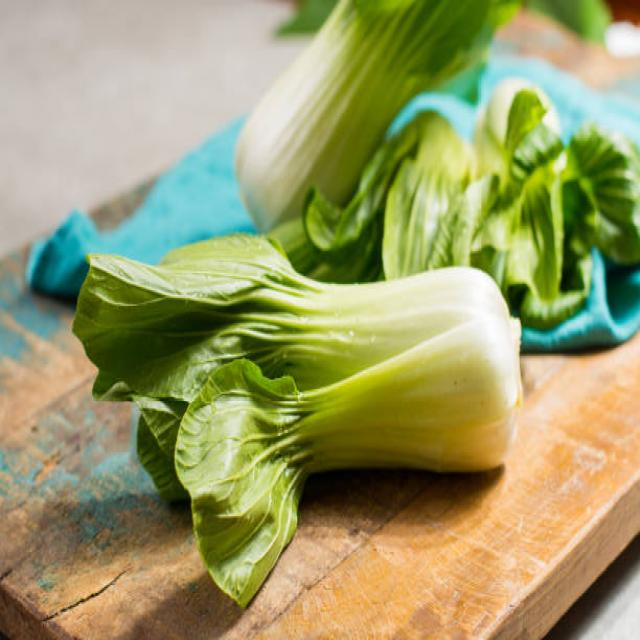Bok Choy: (66, 212, 550, 610)
